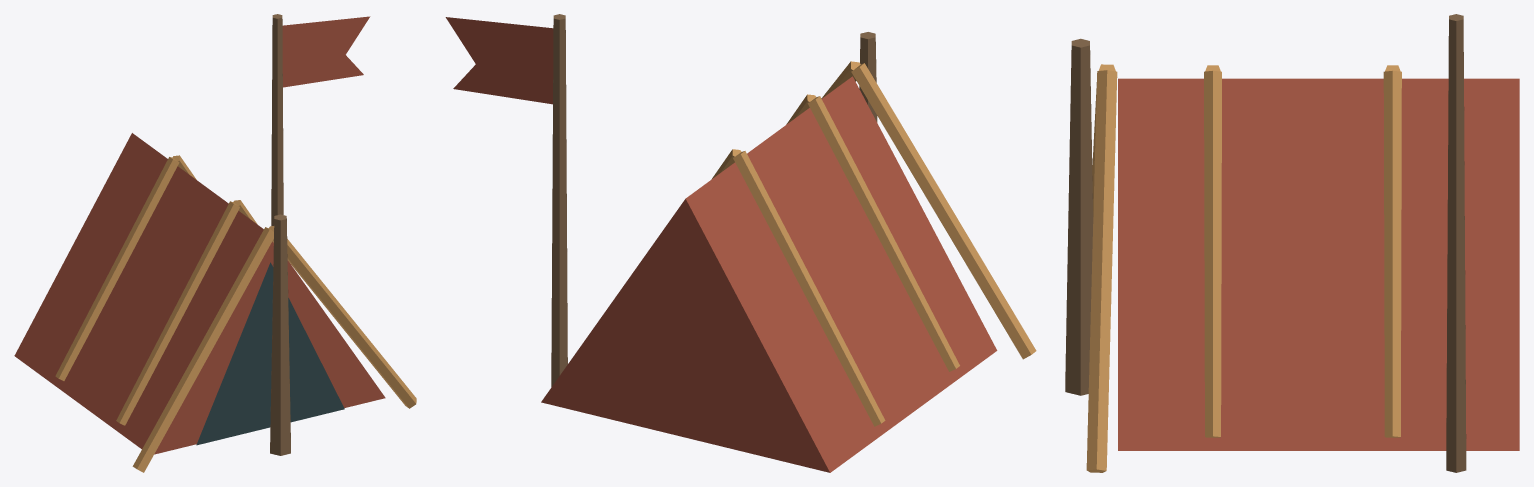
The model's file is site-raider-tent.glb.
The picture shows the model from 3 angles, left to right: view 1: azimuth 30°, elevation 25°; view 2: azimuth 150°, elevation 25°; view 3: azimuth 270°, elevation 25°; orthographic projection. The views are drawn at different scales.
Parts seen in each view (by area): view 1: Pitched roof; view 2: Pitched roof; view 3: Pitched roof.
Part boxes in pixels (box(x1,y1,x2,y2)): Pitched roof: box(14, 14, 416, 472); Pitched roof: box(445, 14, 1036, 472); Pitched roof: box(1065, 14, 1519, 472).
Bounding box in the file's own units: 0.5767 × 0.48 × 0.4297.
